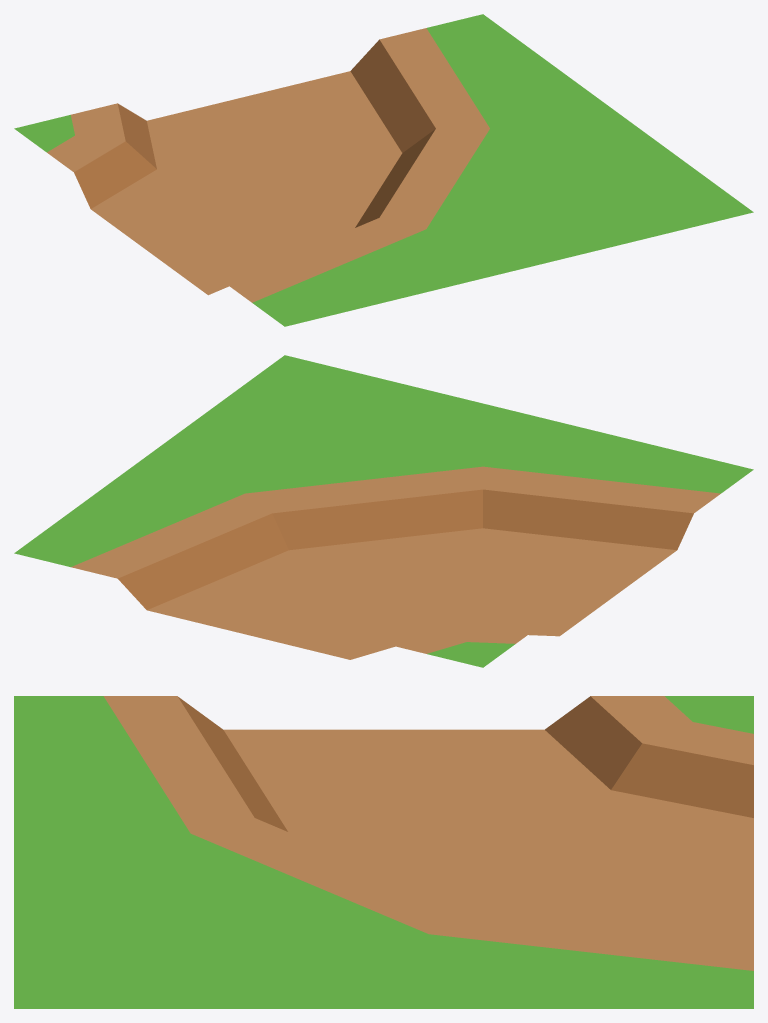
File: path-bend.glb
3 renders of one model, top to bottom at view 1: azimuth 30°, elevation 25°; view 2: azimuth 150°, elevation 25°; view 3: azimuth 270°, elevation 25°, orthographic. The views are drawn at different scales.
Visible parts, largest first — view 1: ground_pathBend; view 2: ground_pathBend; view 3: ground_pathBend.
Part boxes in pixels (x1=…): ground_pathBend: x1=14, y1=14, x2=753, y2=326; ground_pathBend: x1=14, y1=355, x2=753, y2=667; ground_pathBend: x1=14, y1=696, x2=753, y2=1008.
Size of the model in its own units: 4 by 0.2002 by 4.
